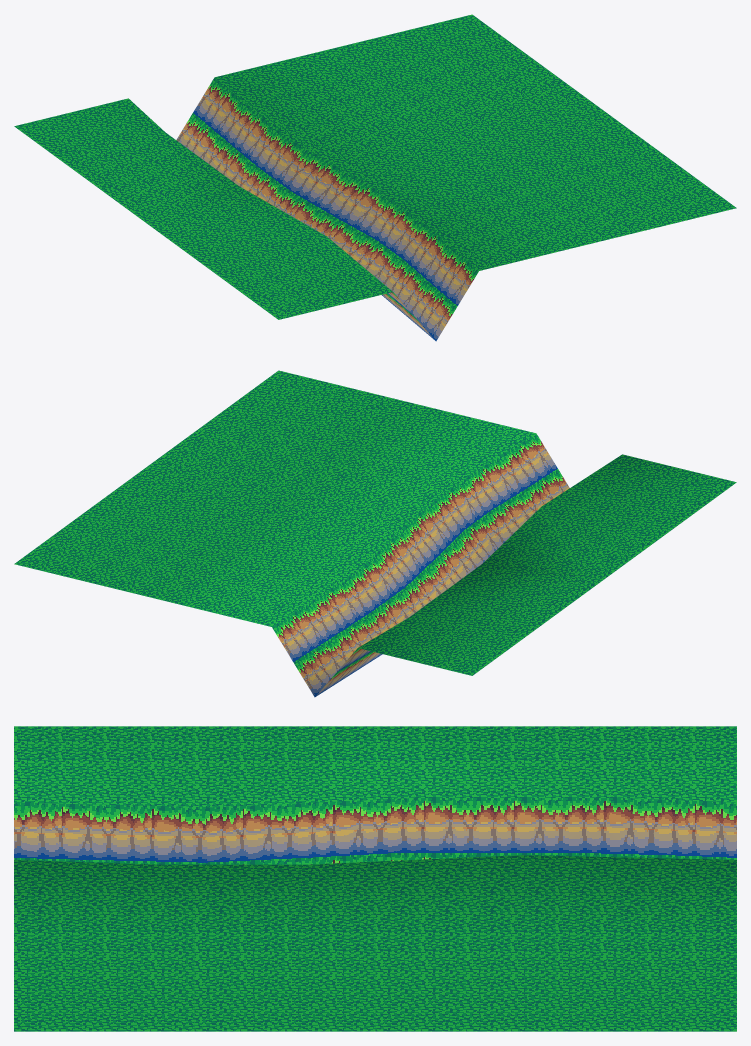
The model's file is shapeout.fbx.
The picture shows the model from 3 angles, top to bottom: view 1: azimuth 30°, elevation 25°; view 2: azimuth 150°, elevation 25°; view 3: azimuth 270°, elevation 25°; orthographic projection. The views are drawn at different scales.
Visible parts, largest first — view 1: material_00012000, material_C0022000; view 2: material_00012000, material_C0022000; view 3: material_00012000, material_C0022000.
Boxes of the visible parts, x1=… form: material_00012000: x1=14, y1=14, x2=736, y2=319; material_C0022000: x1=176, y1=77, x2=478, y2=341; material_00012000: x1=14, y1=370, x2=736, y2=675; material_C0022000: x1=272, y1=433, x2=569, y2=697; material_00012000: x1=14, y1=726, x2=736, y2=1031; material_C0022000: x1=14, y1=798, x2=736, y2=864.
Size of the model in its own units: 12800 by 1600 by 12800.
